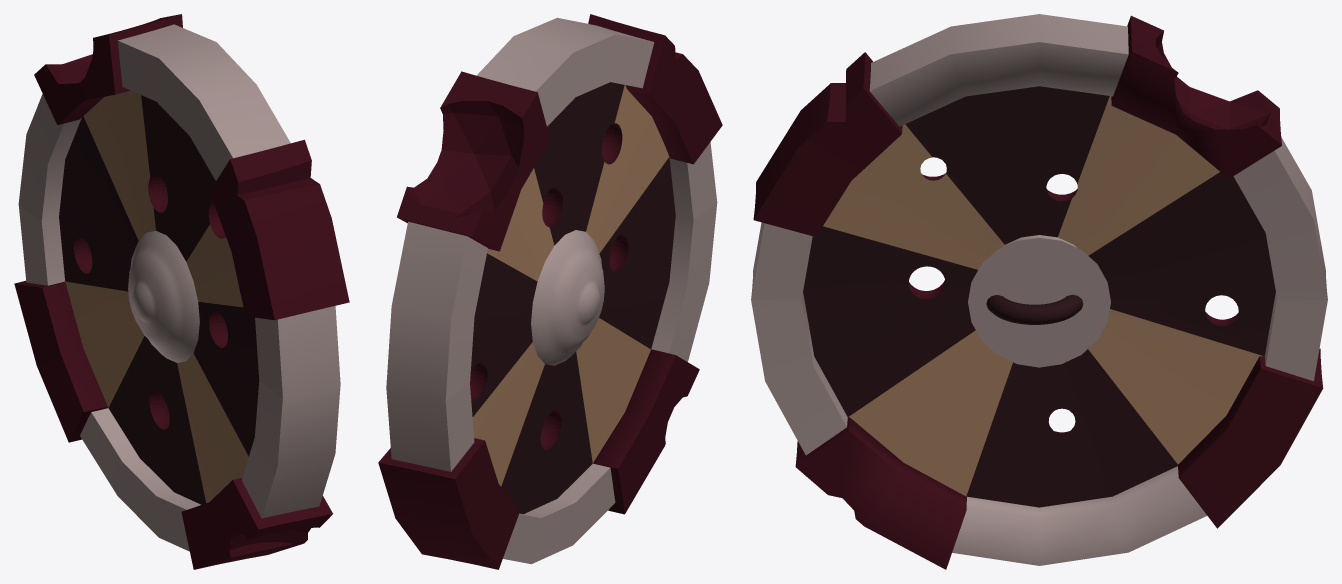
The model's file is shield_yıpran (1).fbx.
3 views of the same model, side by side, from view 1: azimuth 30°, elevation 25°; view 2: azimuth 150°, elevation 25°; view 3: azimuth 270°, elevation 25° (orthographic). The views are drawn at different scales.
Parts seen in each view (by area): view 1: yıpranmıs; view 2: yıpranmıs; view 3: yıpranmıs.
Boxes of the visible parts, left/top/right/bottom form: yıpranmıs: left=14, top=14, right=349, bottom=569; yıpranmıs: left=378, top=14, right=722, bottom=569; yıpranmıs: left=751, top=14, right=1327, bottom=569.
Bounding box in the file's own units: 40.09 × 180 × 180.
